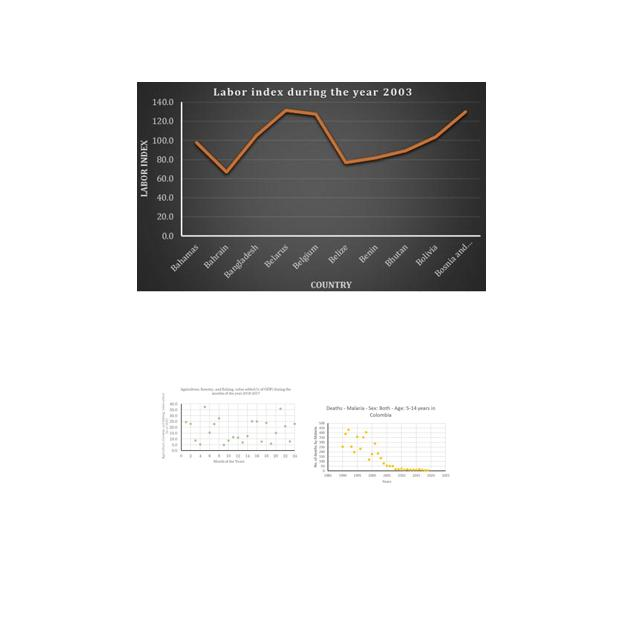Graph: (137, 82, 486, 292), (310, 403, 451, 486), (159, 384, 299, 466)
